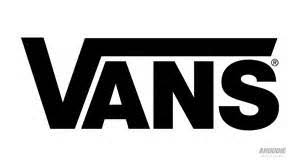vans: (19, 36, 280, 131)
